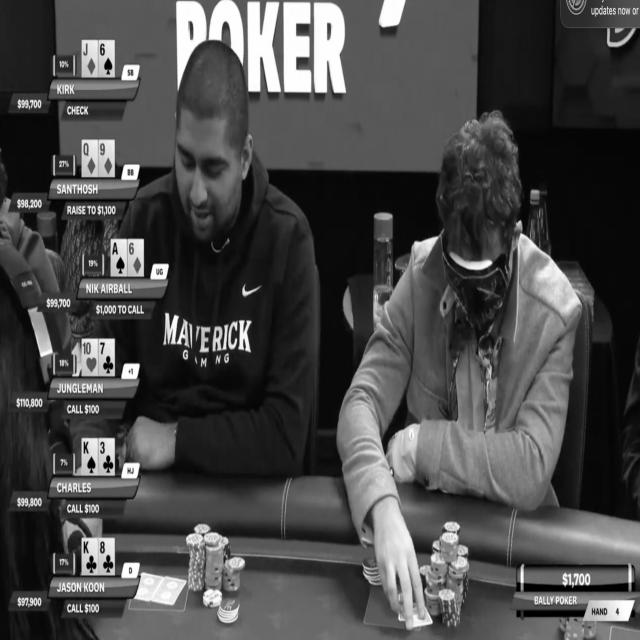10H: (82, 340, 98, 374)
3C: (98, 439, 115, 475)
6D: (128, 241, 144, 276)
6S: (98, 41, 114, 78)
7C: (98, 338, 115, 377)
8C: (99, 539, 114, 575)
9D: (98, 140, 114, 176)
AS: (110, 240, 127, 274)
JD: (82, 41, 98, 78)
KC: (82, 539, 98, 575)
KS: (82, 437, 97, 476)
QD: (81, 140, 98, 178)
